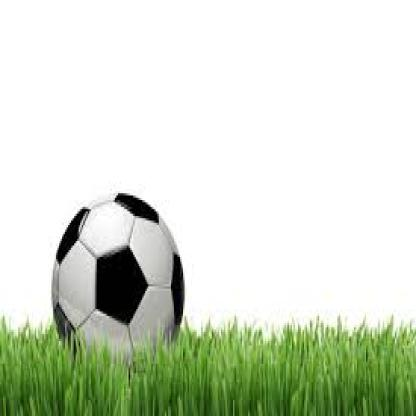ball: (53, 193, 181, 359)
